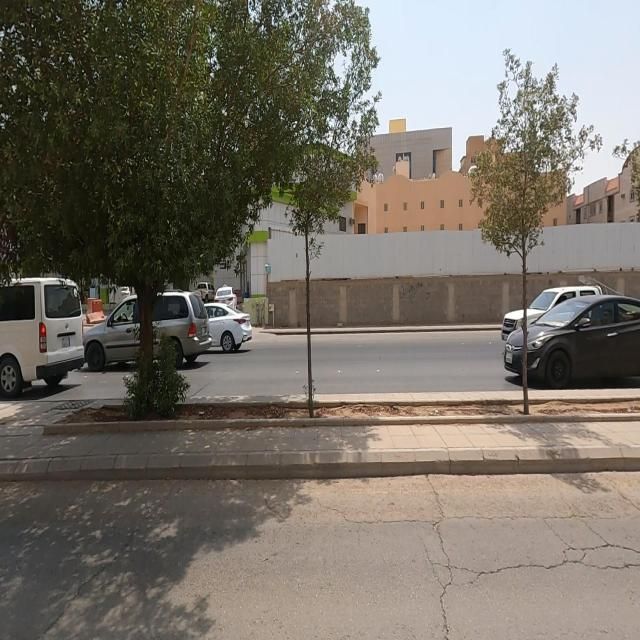Graffiti: (399, 280, 430, 303)
